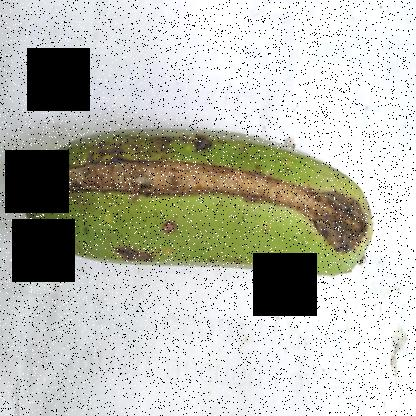rotten: (26, 144, 305, 238), (270, 177, 372, 271)
